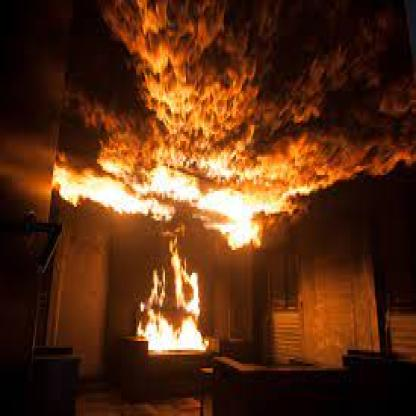fire: (136, 224, 205, 368)
smoke: (50, 8, 416, 246)
